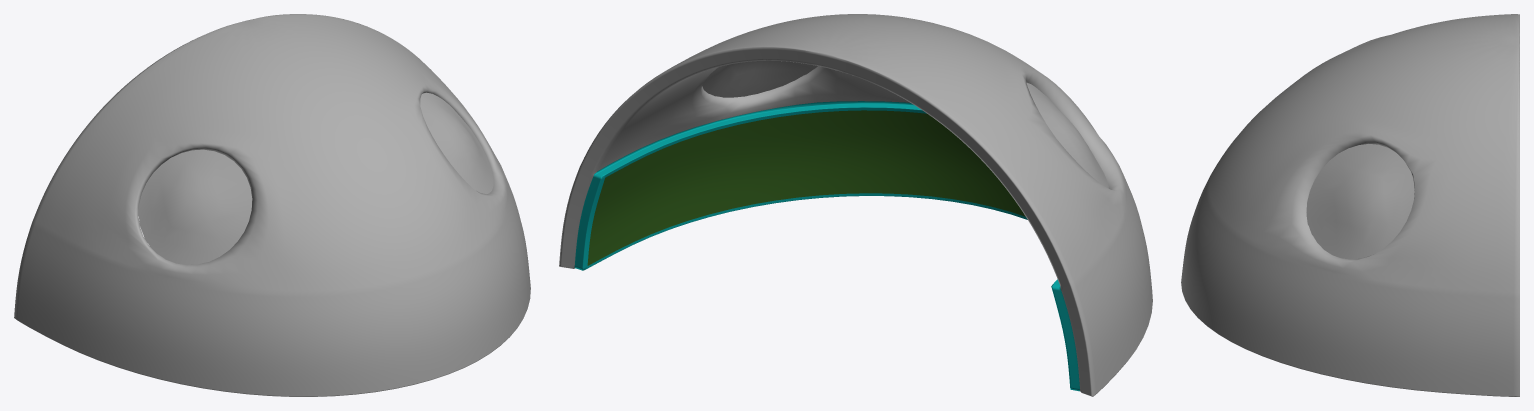
Rendered from dome.fbx.
3 renders of one model, left to right at view 1: azimuth 30°, elevation 25°; view 2: azimuth 150°, elevation 25°; view 3: azimuth 270°, elevation 25°, orthographic. The views are drawn at different scales.
Visible parts, largest first — view 1: pDisc2; view 2: pDisc2; view 3: pDisc2.
Boxes of the visible parts, x1=… form: pDisc2: x1=14, y1=14, x2=530, y2=396; pDisc2: x1=559, y1=14, x2=1152, y2=396; pDisc2: x1=1181, y1=14, x2=1519, y2=396.
Bounding box in the file's own units: 24.21 × 12.06 × 15.18.
